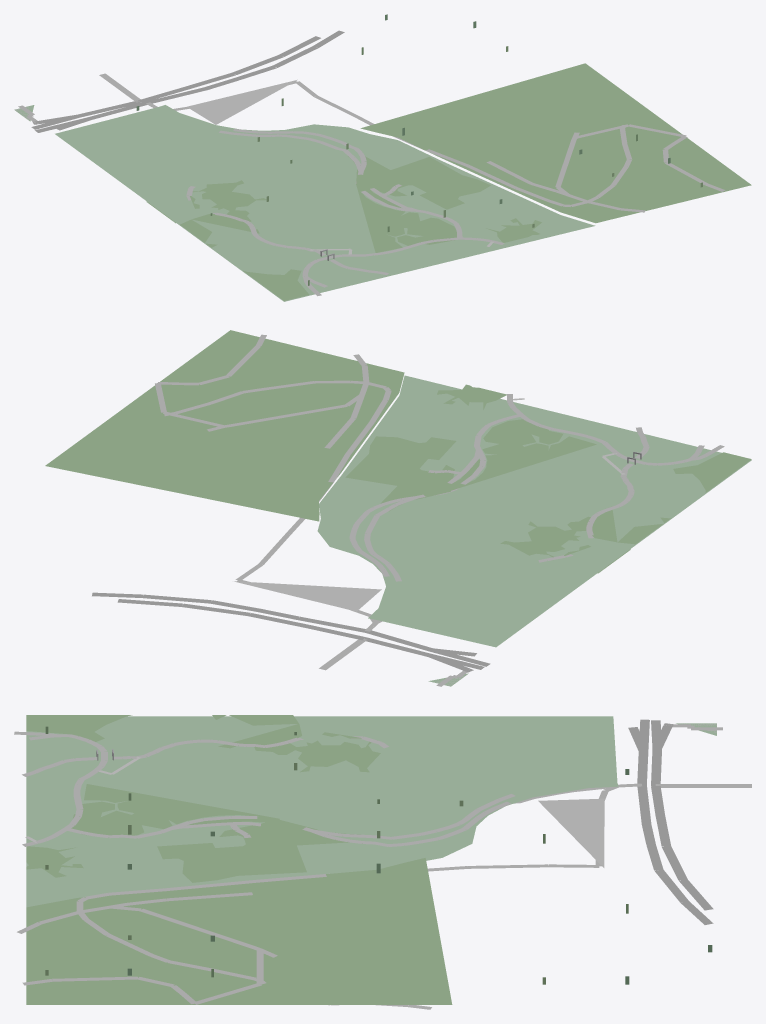
3 views of the same model, one above another, from view 1: azimuth 30°, elevation 25°; view 2: azimuth 150°, elevation 25°; view 3: azimuth 270°, elevation 25° (orthographic). The views are drawn at different scales.
Size of the model in its own units: 509 by 19.03 by 534.
